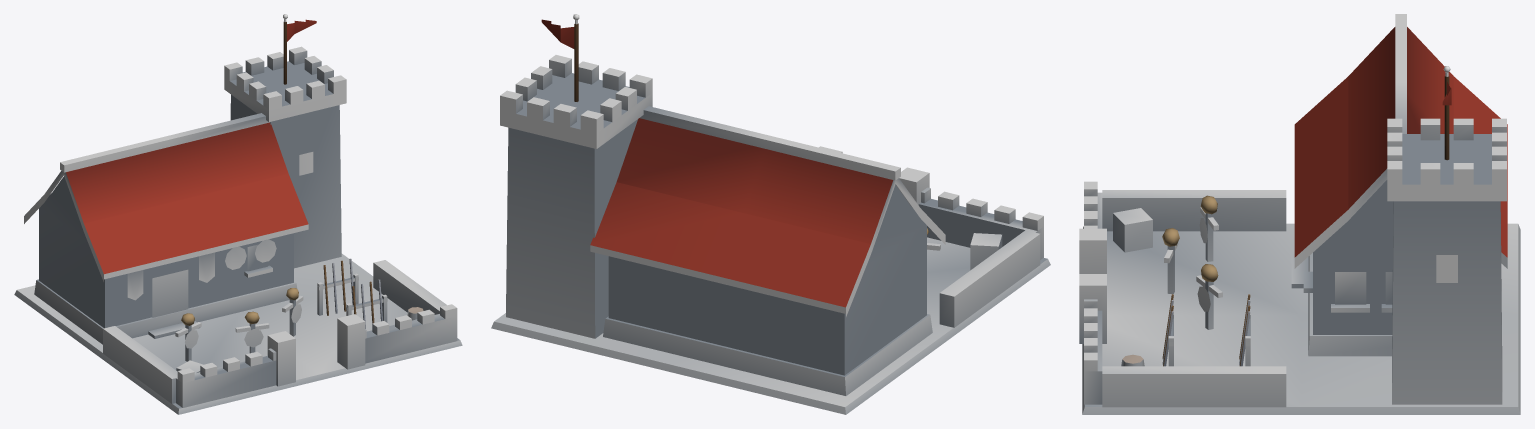
The model's file is barracks_t3.glb.
3 renders of one model, left to right at view 1: azimuth 30°, elevation 25°; view 2: azimuth 150°, elevation 25°; view 3: azimuth 270°, elevation 25°, orthographic. The views are drawn at different scales.
Visible parts, largest first — view 1: barracks_t3; view 2: barracks_t3; view 3: barracks_t3.
Boxes of the visible parts, left/top/right/bottom form: barracks_t3: left=14, top=14, right=462, bottom=414; barracks_t3: left=491, top=14, right=1050, bottom=414; barracks_t3: left=1079, top=14, right=1520, bottom=414.
Size of the model in its own units: 2.86 by 2.32 by 2.88.
